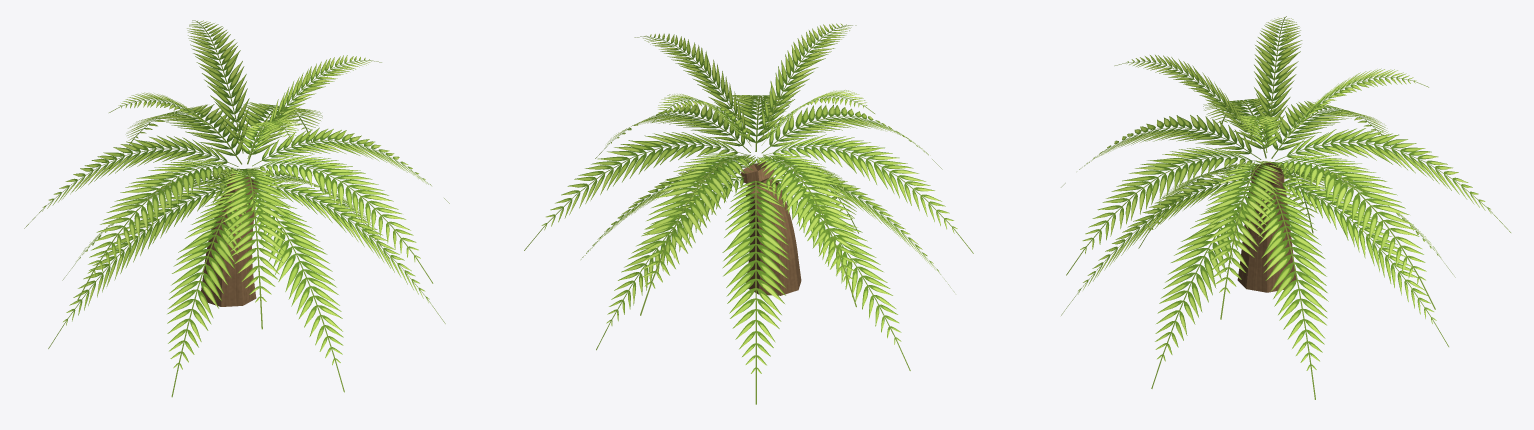
Rendered from palm2_low.glb.
3 views of the same model, side by side, from view 1: azimuth 30°, elevation 25°; view 2: azimuth 150°, elevation 25°; view 3: azimuth 270°, elevation 25° (orthographic). The views are drawn at different scales.
Visible parts, largest first — view 1: palm2_low; view 2: palm2_low; view 3: palm2_low.
Part boxes in pixels (x1,y1,x2,y2): palm2_low: (24,20,449,397); palm2_low: (524,23,973,404); palm2_low: (1061,16,1510,399).
Size of the model in its own units: 2.37 by 1.43 by 2.41.
2 materials, 2 textured.
